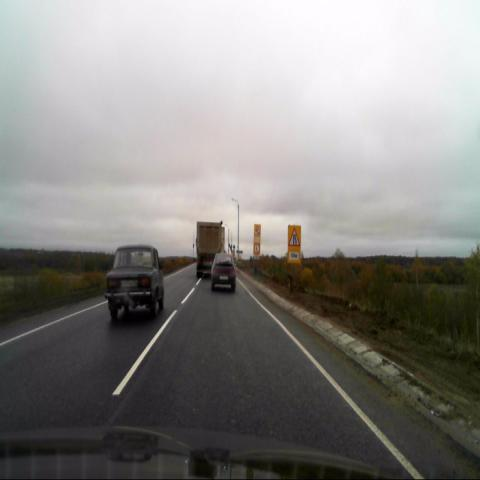1_20_2: (288, 225, 300, 248)
